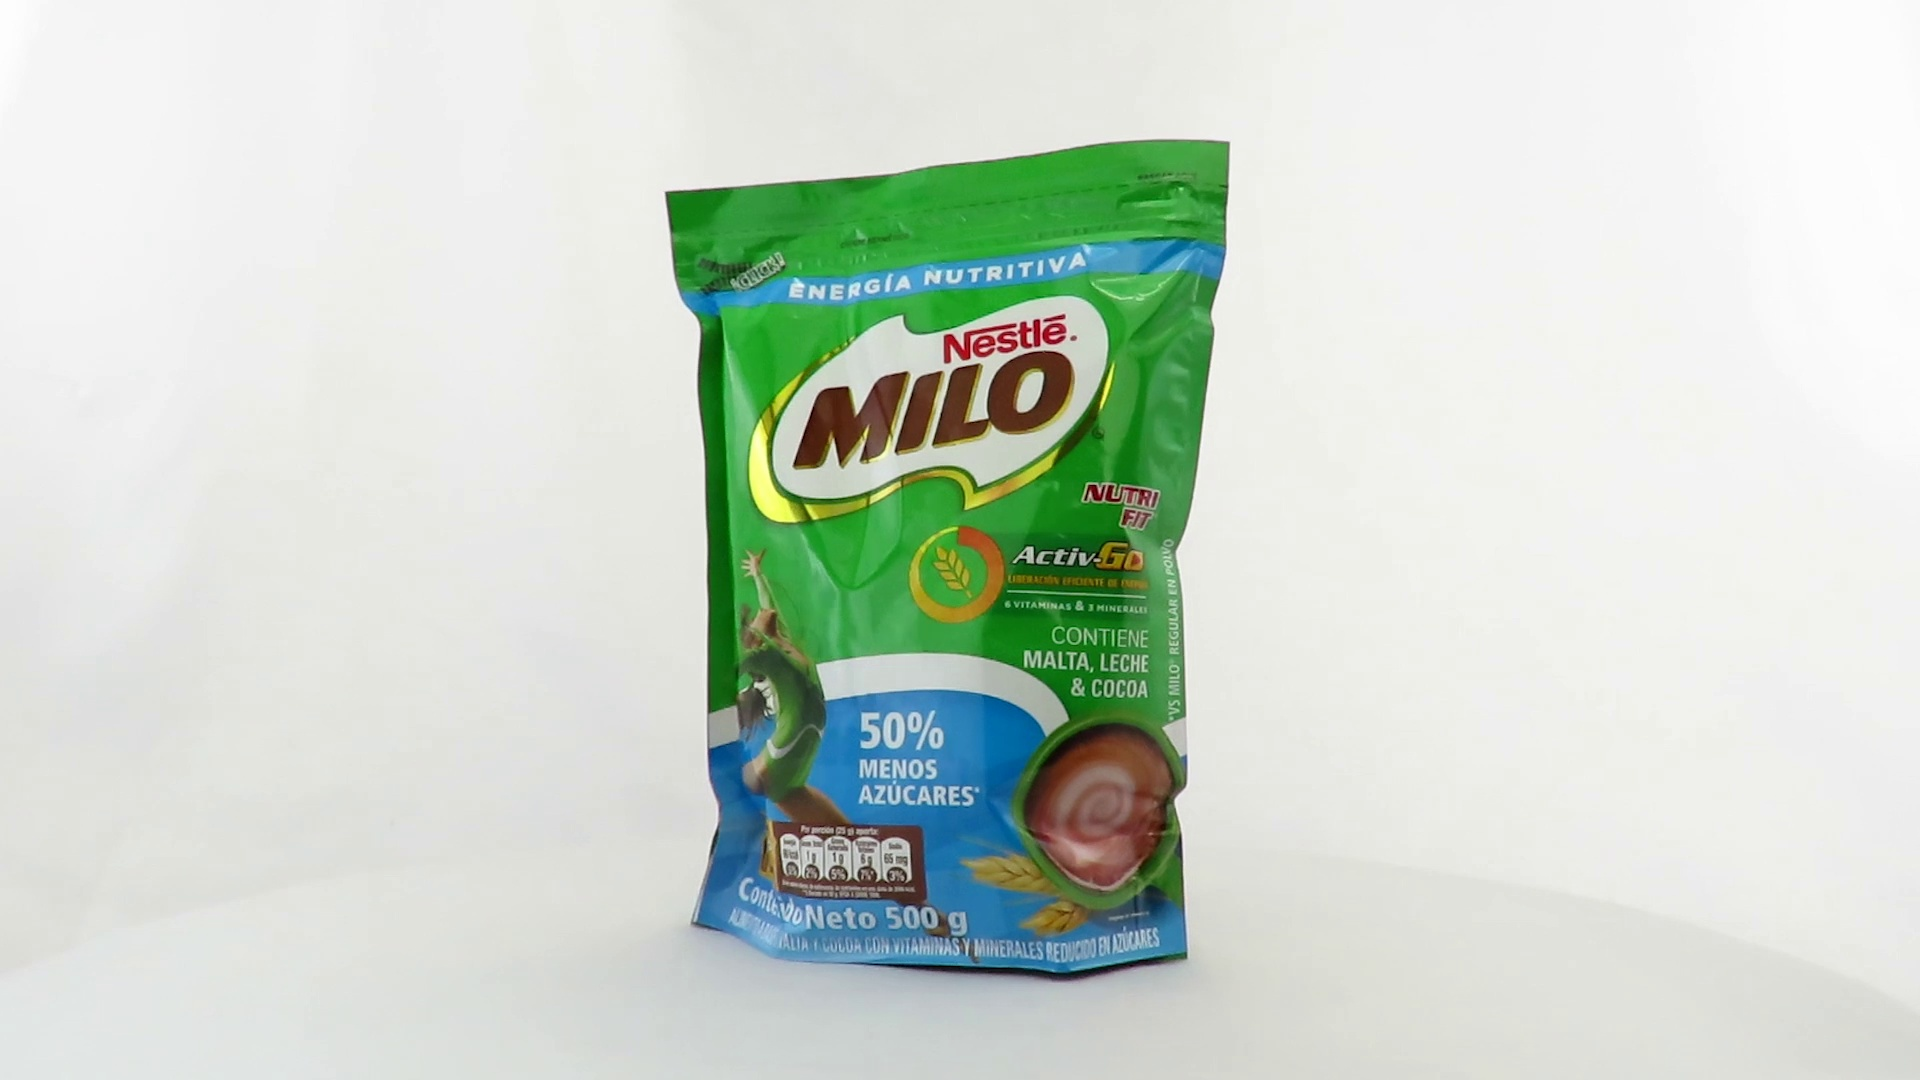COL0170205DYP50000: (659, 135, 1236, 988)
